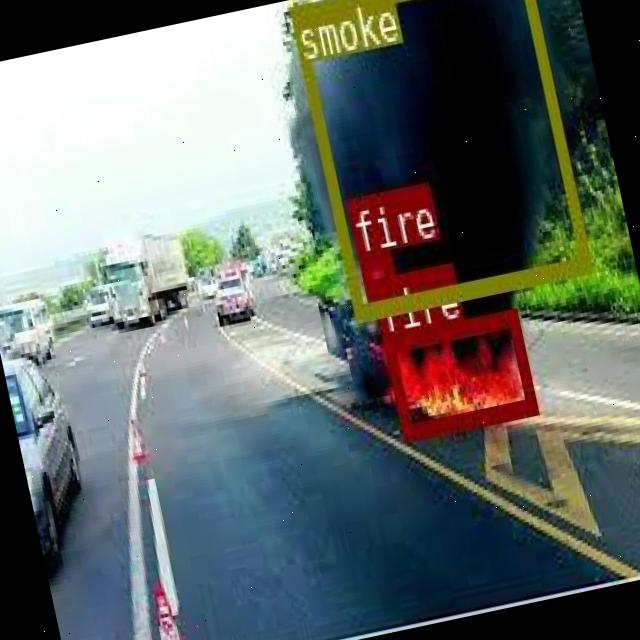fire: (380, 306, 534, 438), (355, 248, 395, 300)
smoke: (287, 0, 590, 320)
